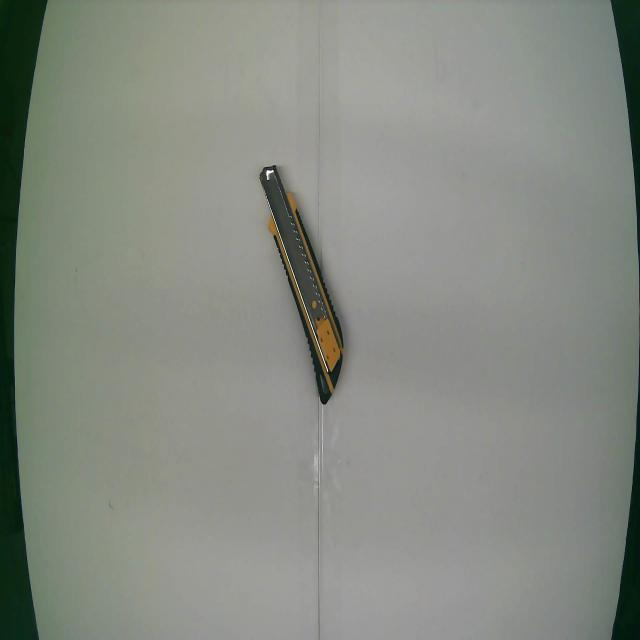estilete: (260, 166, 341, 403)
